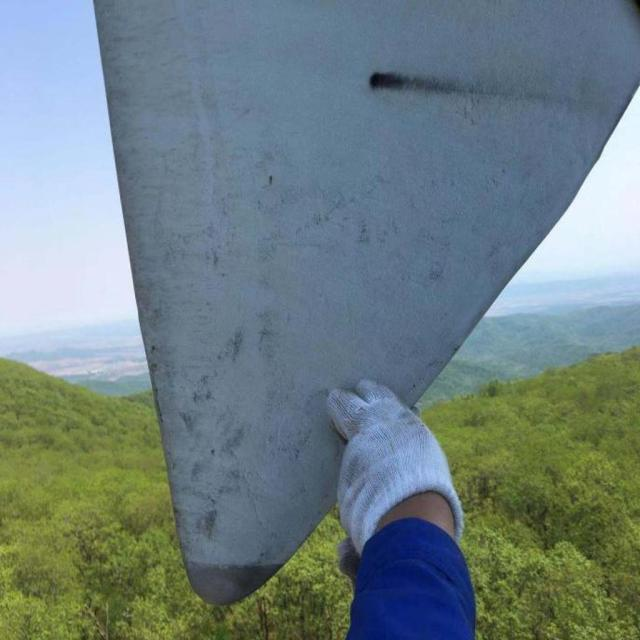crack: (364, 70, 454, 98)
